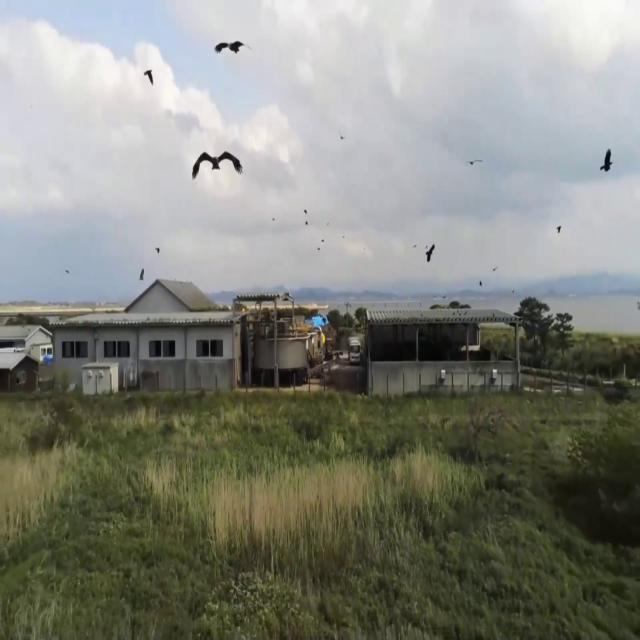bird: (191, 127, 243, 208), (213, 24, 249, 77), (424, 235, 436, 273), (466, 148, 482, 174), (143, 59, 154, 95), (338, 124, 346, 146)
